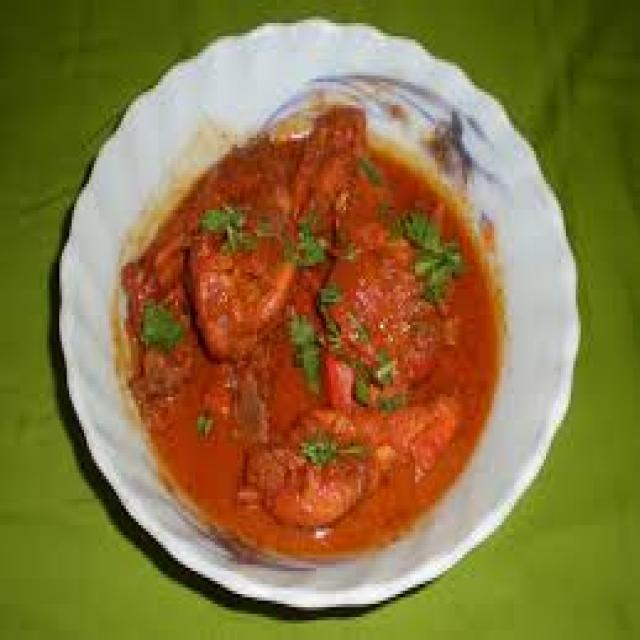Frango: (131, 111, 504, 552)
